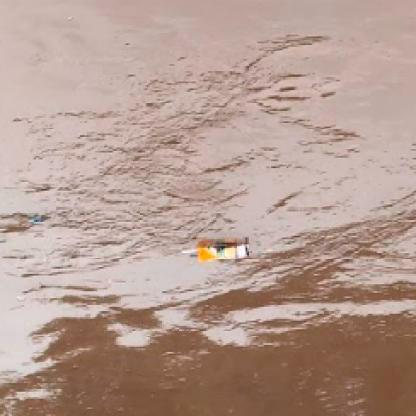Metal: (191, 239, 252, 267)
